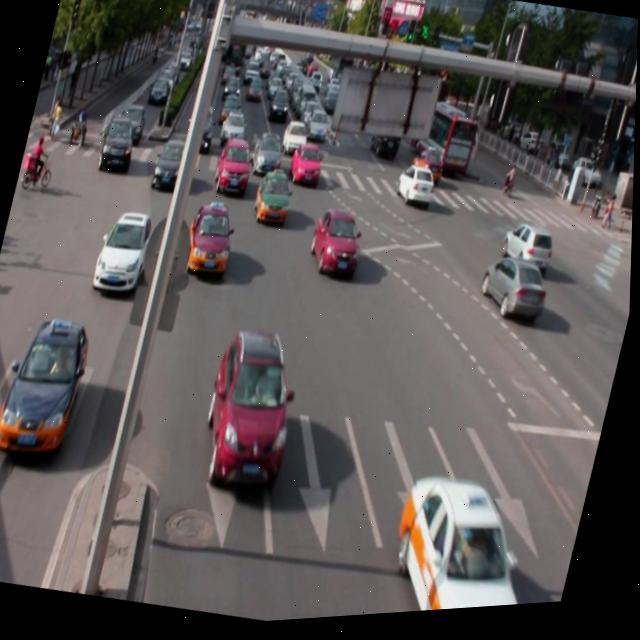car: (378, 469, 558, 619), (195, 325, 313, 498), (0, 307, 99, 462), (90, 205, 159, 299), (475, 254, 554, 333), (181, 201, 242, 283), (306, 209, 369, 285), (497, 223, 558, 284), (212, 137, 257, 203), (251, 169, 298, 232), (149, 135, 192, 195)
